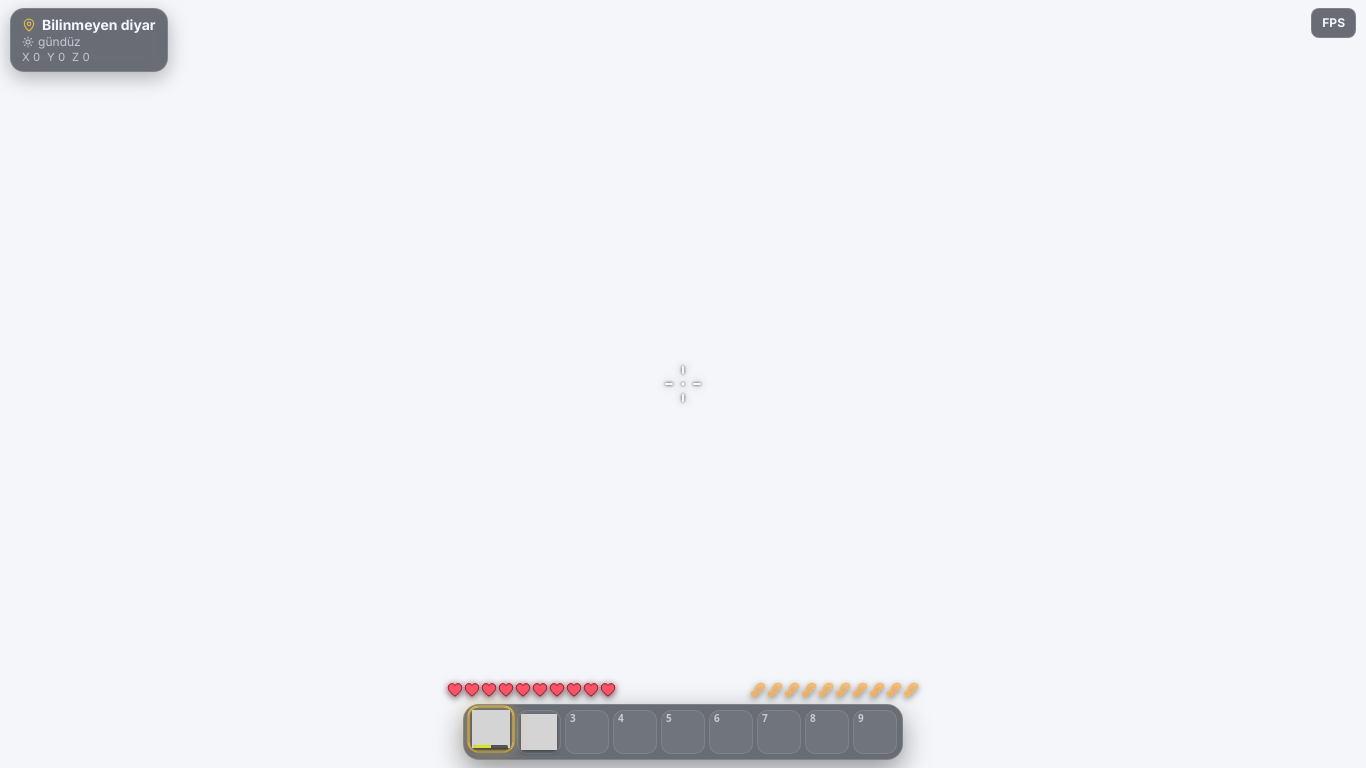
Test case: KesifHud: arayüz durumları ve katmanlar › hata ayıklamada FPS düğmesi çipi açar
Step 1. Click the button "FPS" → [1334, 23], box [1311, 8, 1356, 38]
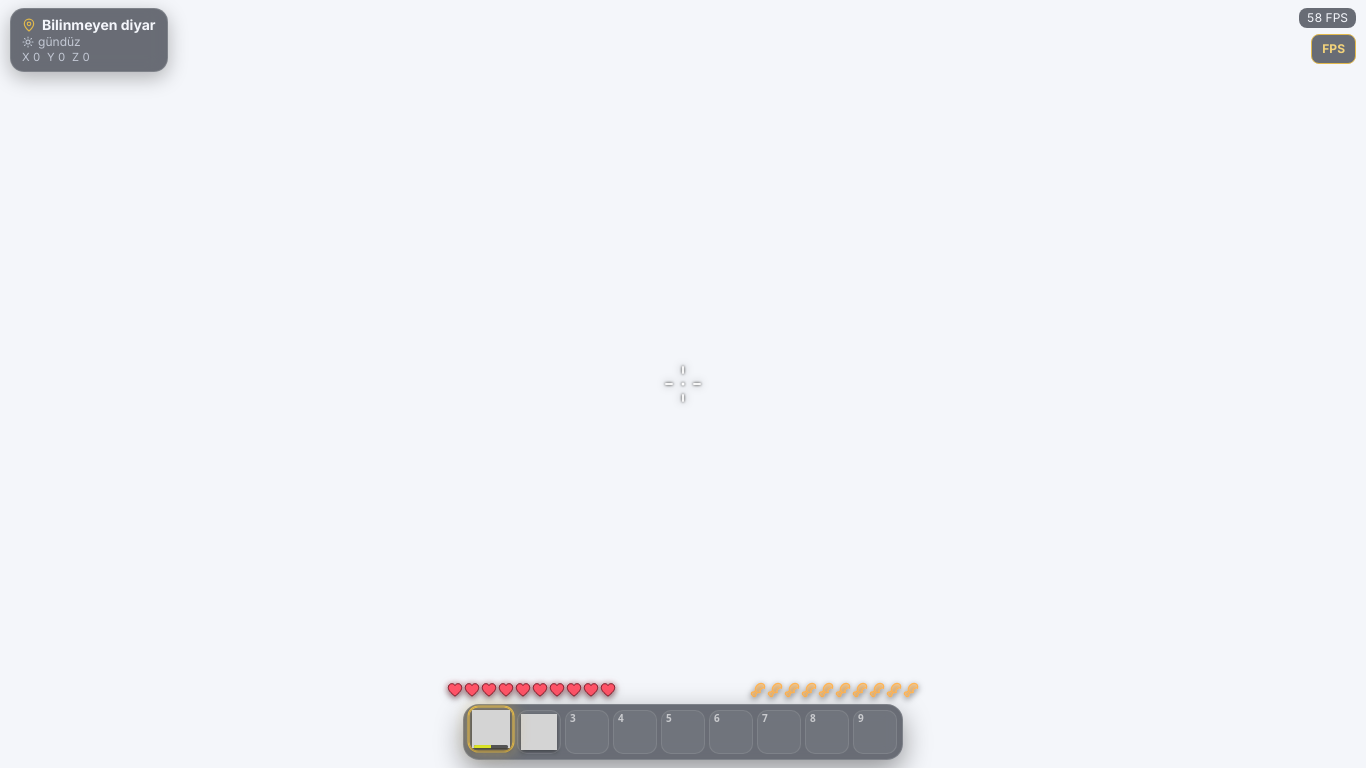
Expected: the text with class "kx-fps" reads "58 FPS", [1299, 8, 1356, 28]
